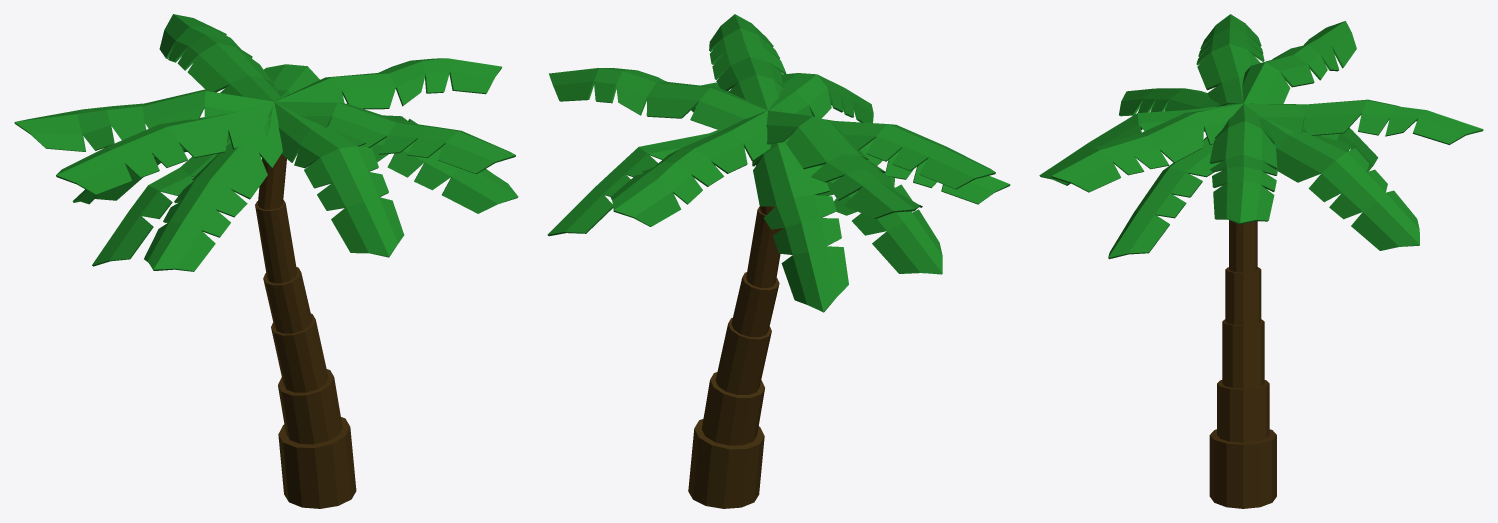
Rendered from PalmTree.glb.
The picture shows the model from 3 angles, left to right: view 1: azimuth 30°, elevation 25°; view 2: azimuth 150°, elevation 25°; view 3: azimuth 270°, elevation 25°; orthographic projection. The views are drawn at different scales.
Parts seen in each view (by area): view 1: Cylinder, Plane.009, Plane.006, Plane.004, Plane.008, Plane.001, Plane, Plane.007, Plane.002, Plane.010, Plane.003, Plane.005; view 2: Cylinder, Plane.005, Plane.007, Plane.008, Plane, Plane.001, Plane.004, Plane.010, Plane.003, Plane.009, Plane.006; view 3: Cylinder, Plane.003, Plane.001, Plane, Plane.007, Plane.008, Plane.002, Plane.004, Plane.006, Plane.009, Plane.005.
Boxes of the visible parts, x1,y1,x2,y2 form: Cylinder: (255,154,356,508); Plane.009: (274,102,404,257); Plane.006: (144,104,282,271); Plane.004: (56,102,274,195); Plane.008: (14,89,274,151); Plane.001: (275,101,515,174); Plane: (275,58,501,109); Plane.007: (159,14,281,101); Plane.002: (330,115,518,213); Plane.010: (92,106,272,266); Plane.003: (264,64,319,100); Plane.005: (72,145,186,204); Cylinder: (688,162,783,508); Plane.005: (752,137,848,312); Plane.007: (610,110,770,226); Plane.008: (766,110,922,218); Plane: (549,68,767,129); Plane.001: (709,14,786,110); Plane.004: (789,119,995,189); Plane.010: (779,111,942,274); Plane.003: (547,112,762,236); Plane.009: (768,73,873,122); Plane.006: (860,139,1010,204); Cylinder: (1209,220,1276,508); Plane.003: (1246,106,1419,250); Plane.001: (1051,104,1242,192); Plane: (1209,104,1277,224); Plane.007: (1244,99,1483,144); Plane.008: (1242,21,1356,103); Plane.002: (1108,137,1220,259); Plane.004: (1196,14,1264,105); Plane.006: (1119,88,1219,116); Plane.009: (1039,103,1242,185); Plane.005: (1303,120,1378,172).
Size of the model in its own units: 14.39 by 12.8 by 13.23.
